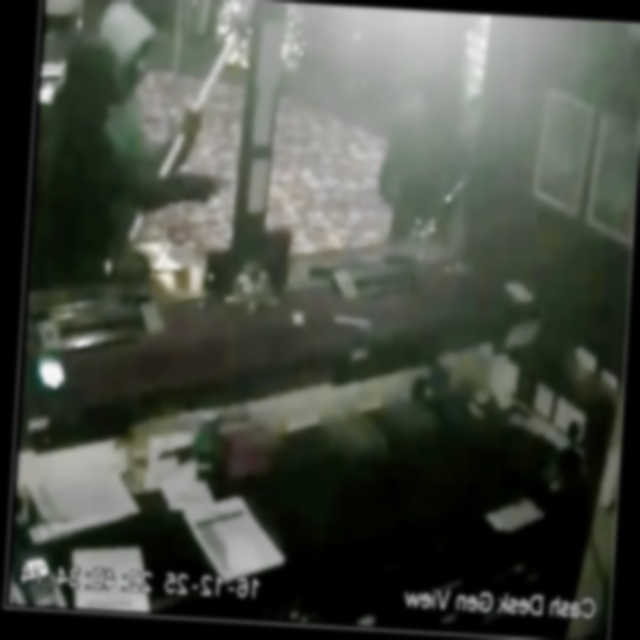gun: (115, 0, 250, 245)
